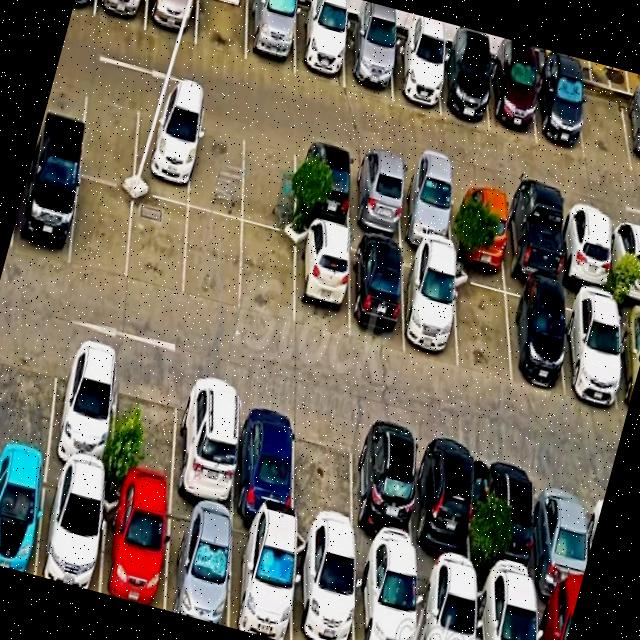empty: (98, 386, 185, 504), (276, 435, 366, 548), (0, 345, 67, 473), (442, 278, 524, 381), (118, 189, 195, 289), (182, 114, 256, 218), (62, 182, 140, 280), (238, 126, 312, 228), (68, 92, 146, 186), (228, 220, 302, 316), (570, 67, 640, 162), (176, 206, 248, 297), (187, 0, 261, 60)
occupied: (152, 402, 246, 524), (34, 372, 126, 489), (335, 440, 424, 560), (220, 424, 304, 544), (462, 464, 544, 584), (89, 496, 178, 606), (157, 514, 245, 624), (221, 530, 306, 640), (398, 456, 480, 570), (556, 300, 636, 416), (519, 488, 601, 600), (28, 483, 112, 589), (392, 257, 472, 366), (501, 286, 579, 396), (125, 94, 206, 197), (496, 192, 572, 300), (443, 171, 518, 279), (342, 240, 417, 348), (283, 549, 371, 640), (281, 228, 359, 329), (282, 137, 361, 234), (547, 208, 620, 312), (9, 166, 84, 262), (432, 26, 504, 126), (482, 39, 550, 140), (386, 13, 454, 112), (390, 164, 460, 260), (346, 563, 431, 640), (530, 51, 596, 150), (339, 0, 407, 96), (342, 153, 410, 243), (289, 0, 358, 82), (237, 0, 309, 75), (0, 464, 50, 572), (410, 579, 491, 640), (597, 218, 640, 324), (466, 593, 555, 640), (140, 0, 206, 36), (616, 73, 640, 166), (92, 0, 155, 24)
